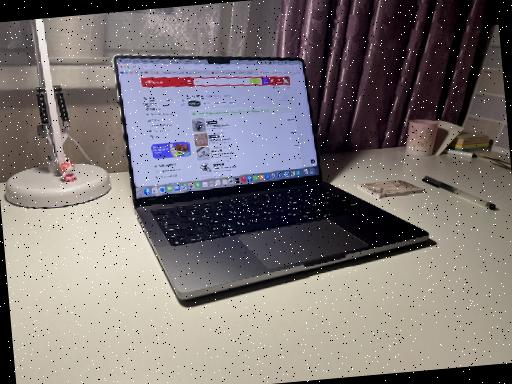aliexpress: (122, 60, 312, 180)
